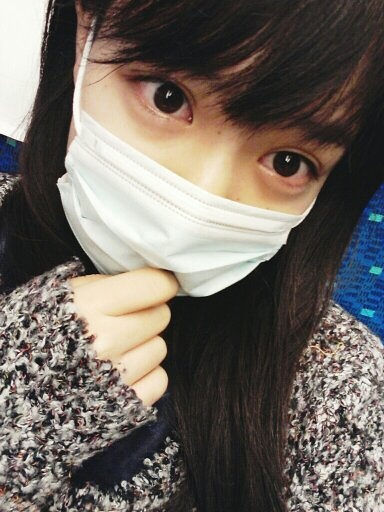face_mask: (64, 1, 340, 298)
